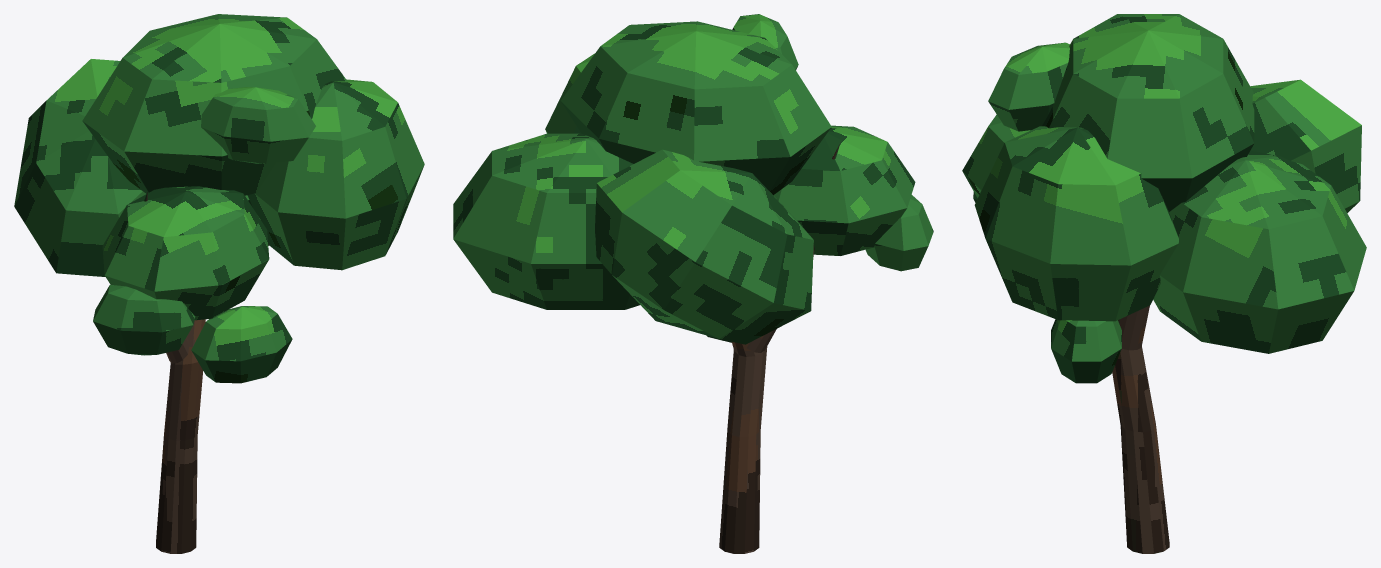
Rendered from tree.gltf.
The picture shows the model from 3 angles, left to right: view 1: azimuth 30°, elevation 25°; view 2: azimuth 150°, elevation 25°; view 3: azimuth 270°, elevation 25°; orthographic projection. The views are drawn at different scales.
Visible parts, largest first — view 1: sphere (×7), cylinder; view 2: sphere (×7), cylinder; view 3: sphere (×7), cylinder.
Part boxes in pixels (left/top/right/bottom): sphere (×7): left=14, top=14, right=424, bottom=383; cylinder: left=156, top=319, right=205, bottom=553; sphere (×7): left=453, top=14, right=933, bottom=344; cylinder: left=719, top=342, right=767, bottom=553; sphere (×7): left=962, top=14, right=1366, bottom=383; cylinder: left=1112, top=305, right=1169, bottom=553.
Bounding box in the file's own units: 0.7845 × 1.05 × 0.7151.
Materials: 1 (1 with a texture image).
